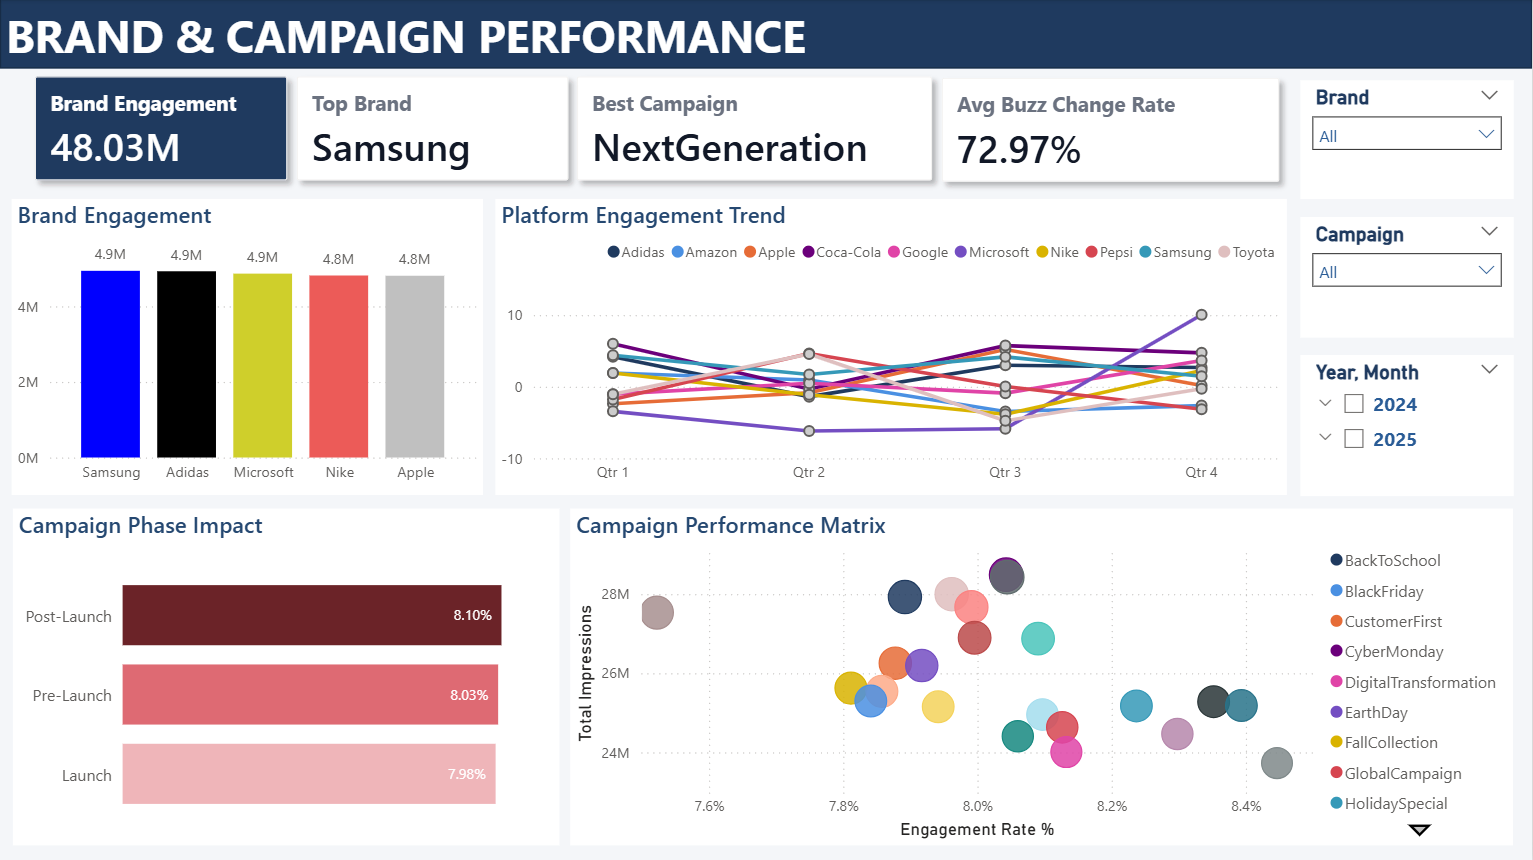

What the dashboard file says about the page in this screenshot:
{"tool":"powerbi","page":{"name":"Brand & Campaign Performance","canvas":[1280,720],"ordinal":2},"visuals":[{"type":"cardVisual","fields":{"Data":["Measures (2).Best Campaign"]},"box":[452.8,36,356,145.3],"z":0},{"type":"cardVisual","fields":{"Data":["Measures (2).Avg Buzz Change Rate"]},"box":[757.7,36.6,340.3,145.3],"z":1000},{"type":"cardVisual","fields":{"Data":["Measures (2).Top Brand"]},"box":[218.6,36,285.3,145.3],"z":2000},{"type":"shape","box":[0,0,1279.9,58],"z":3000},{"type":"textbox","box":[0,0,715.9,68.1],"z":4000},{"type":"cardVisual","fields":{"Data":["Measures (2).Brand Engagement"]},"box":[0,36,269.6,145.3],"z":5000},{"type":"slicer","fields":{"Values":["Social Media Engagement Dataset.brand_name"]},"box":[1086.2,68.1,178,99.5],"z":6000},{"type":"slicer","fields":{"Values":["Social Media Engagement Dataset.Post Date.Variation.Date Hierarchy.Year","Social Media Engagement Dataset.Post Date.Variation.Date Hierarchy.Month"]},"box":[1086.2,297.1,178,117.8],"z":7000},{"type":"clusteredColumnChart","title":"Brand Engagement","fields":{"Category":["Social Media Engagement Dataset.brand_name"],"Y":["Measures (2).Total Engagement"]},"box":[9.2,167.5,393.9,247.3],"z":8000},{"type":"clusteredBarChart","title":"Campaign Phase Impact","fields":{"Category":["Social Media Engagement Dataset.campaign_phase"],"Y":["Measures (2).Avg Engagement Rate"]},"box":[10.5,425.3,456.7,281.4],"z":9000},{"type":"lineChart","title":"Platform Engagement Trend","fields":{"Category":["Social Media Engagement Dataset.Post Date.Variation.Date Hierarchy.Year","Social Media Engagement Dataset.Post Date.Variation.Date Hierarchy.Quarter","Social Media Engagement Dataset.Post Date.Variation.Date Hierarchy.Month"],"Y":["Measures (2).Avg Buzz Change Rate"],"Series":["Social Media Engagement Dataset.brand_name"]},"box":[413.6,167.5,660.9,247.3],"z":10000},{"type":"slicer","fields":{"Values":["Social Media Engagement Dataset.campaign_phase"]},"box":[1086.2,181.9,178,100.8],"z":11000},{"type":"scatterChart","title":"Campaign Performance Matrix","fields":{"Y":["Measures (2).Total Impressions"],"X":["Measures (2).Engagement Rate %"],"Series":["Social Media Engagement Dataset.campaign_name"],"Size":["Measures (2).Total Impressions"]},"box":[476.4,425.3,787.8,281.4],"z":12000}]}

Visuals, with their boxes in screenshot pixels (x1, y1, x2, y2), scaled from the page's 1280x720 canvas onto the 1533x860 screenshot:
cardVisual - Measures (2).Best Campaign: <bbox>542, 43, 969, 217</bbox>
cardVisual - Measures (2).Avg Buzz Change Rate: <bbox>907, 44, 1315, 217</bbox>
cardVisual - Measures (2).Top Brand: <bbox>262, 43, 603, 217</bbox>
shape: <bbox>0, 0, 1532, 69</bbox>
textbox: <bbox>0, 0, 857, 81</bbox>
cardVisual - Measures (2).Brand Engagement: <bbox>0, 43, 323, 217</bbox>
slicer - Social Media Engagement Dataset.brand_name: <bbox>1301, 81, 1514, 200</bbox>
slicer - Social Media Engagement Dataset.Post Date.Variation.Date Hierarchy.Year x Social Media Engagement Dataset.Post Date.Variation.Date Hierarchy.Month: <bbox>1301, 355, 1514, 496</bbox>
"Brand Engagement" clusteredColumnChart: <bbox>11, 200, 483, 495</bbox>
"Campaign Phase Impact" clusteredBarChart: <bbox>13, 508, 560, 844</bbox>
"Platform Engagement Trend" lineChart: <bbox>495, 200, 1287, 495</bbox>
slicer - Social Media Engagement Dataset.campaign_phase: <bbox>1301, 217, 1514, 338</bbox>
"Campaign Performance Matrix" scatterChart: <bbox>571, 508, 1514, 844</bbox>
